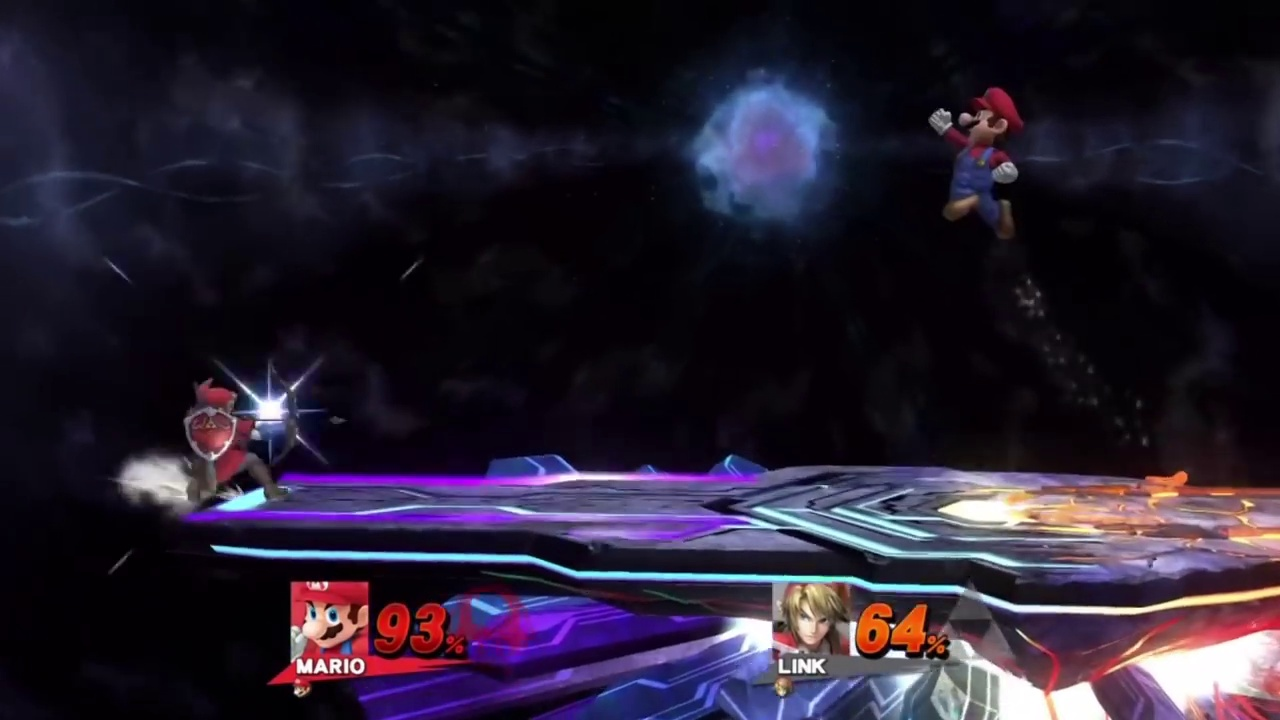Mario: (926, 86, 1023, 242)
